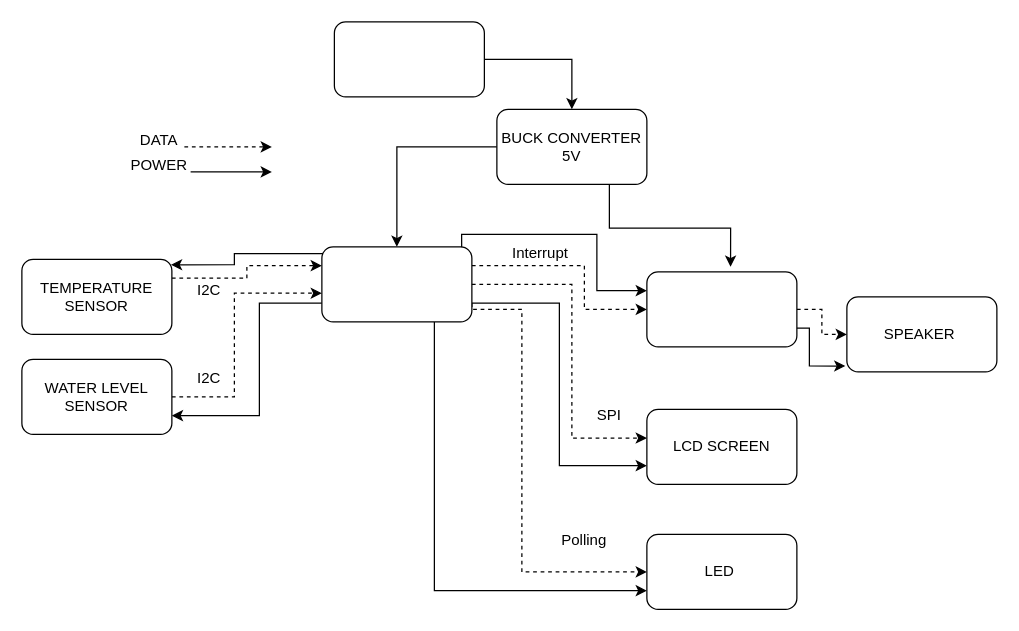
Some shapes in this 1019 by 631 pixel diagram are drawn without their labels. The box of each missing label's shape, as (x1, y1, x2, y2) in pixels:
9V: (333, 21, 484, 97)
ATmega328PB: (321, 246, 472, 322)
AUDIO DRIVER: (646, 271, 797, 347)
